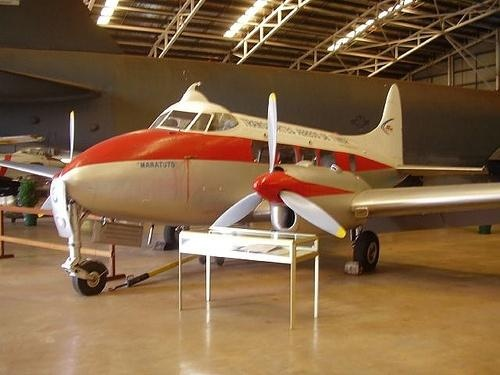aeroplane: (2, 82, 500, 298)
